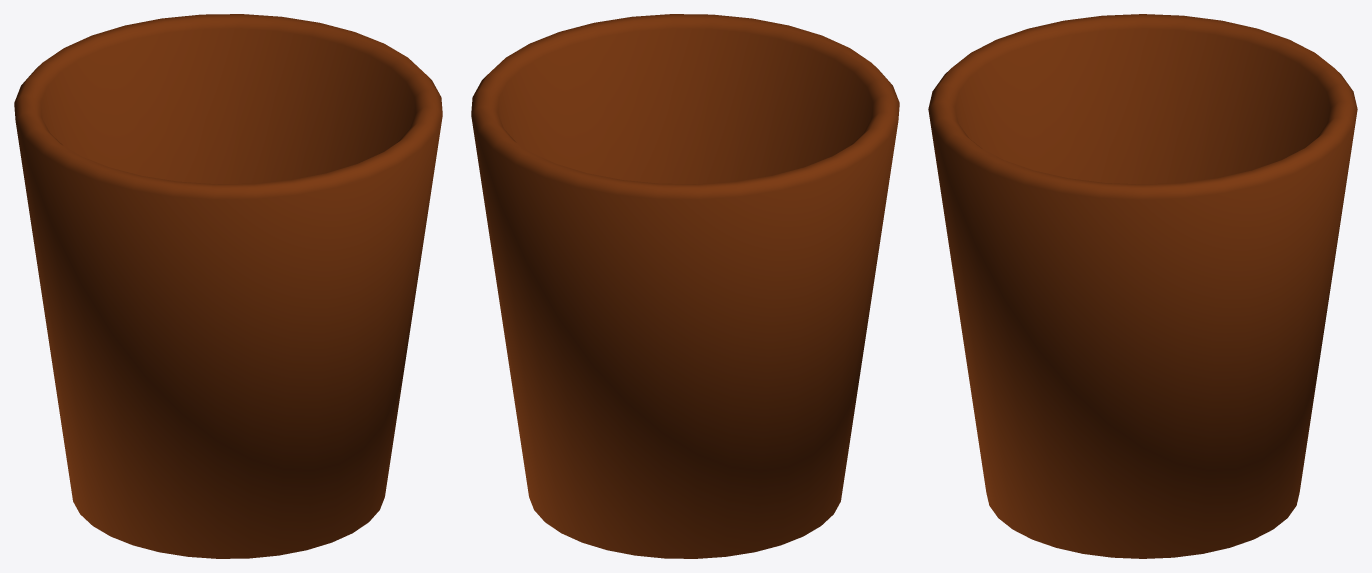
The model's file is pot.glb.
3 views of the same model, side by side, from view 1: azimuth 30°, elevation 25°; view 2: azimuth 150°, elevation 25°; view 3: azimuth 270°, elevation 25° (orthographic).
Visible parts, largest first — view 1: Cylinder; view 2: Cylinder; view 3: Cylinder.
Boxes of the visible parts, left/top/right/bottom form: Cylinder: left=14, top=14, right=442, bottom=558; Cylinder: left=471, top=14, right=899, bottom=558; Cylinder: left=928, top=14, right=1357, bottom=558.
Size of the model in its own units: 0.3979 by 0.4 by 0.3979.
